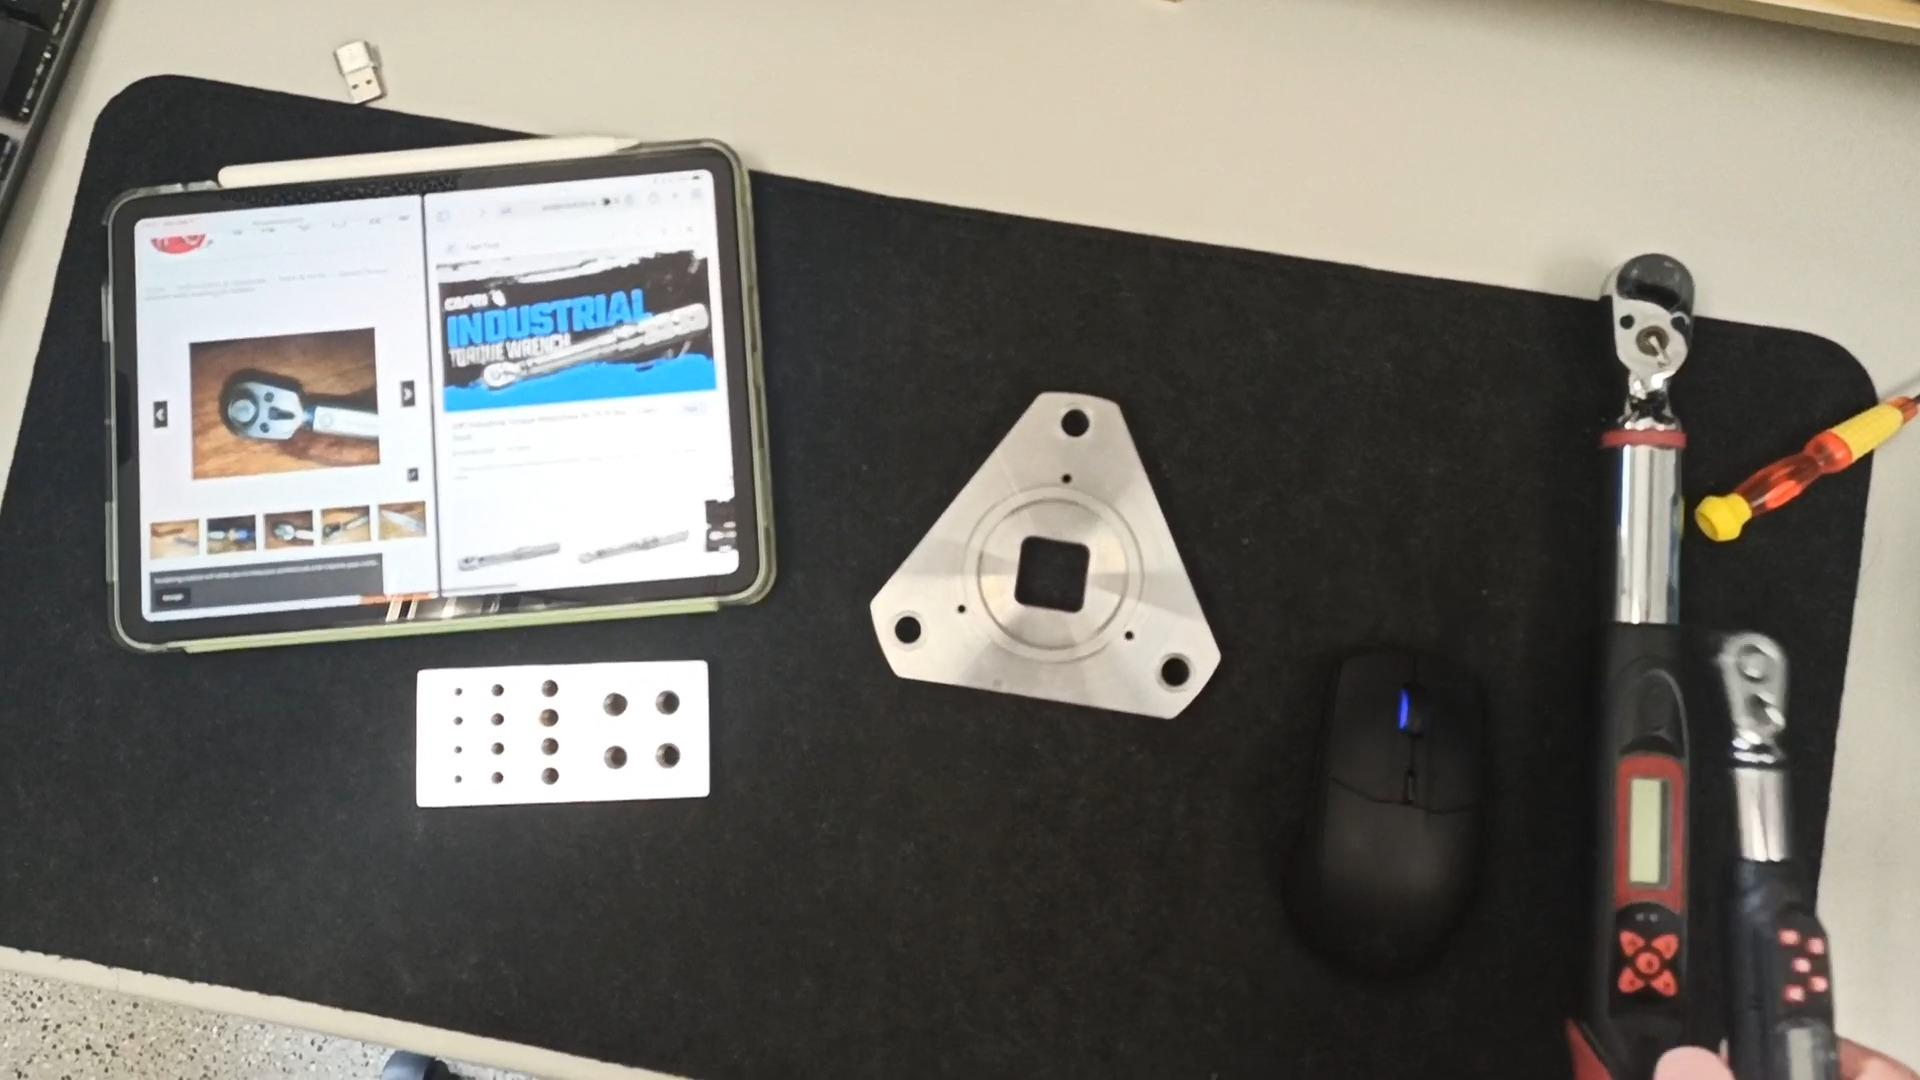Tool: (1592, 248, 1702, 427), (1712, 618, 1797, 753), (213, 370, 313, 447)
hole: (1140, 649, 1211, 698), (1050, 405, 1107, 443), (879, 611, 932, 651), (652, 738, 704, 772), (653, 686, 703, 717), (597, 739, 643, 768), (597, 688, 643, 715), (537, 702, 578, 725), (538, 734, 577, 756), (537, 676, 575, 697), (542, 764, 579, 784), (485, 738, 516, 757), (486, 767, 518, 785), (483, 707, 514, 724), (484, 683, 513, 698), (440, 711, 467, 725), (450, 682, 466, 701), (451, 741, 466, 758), (451, 770, 465, 786)
